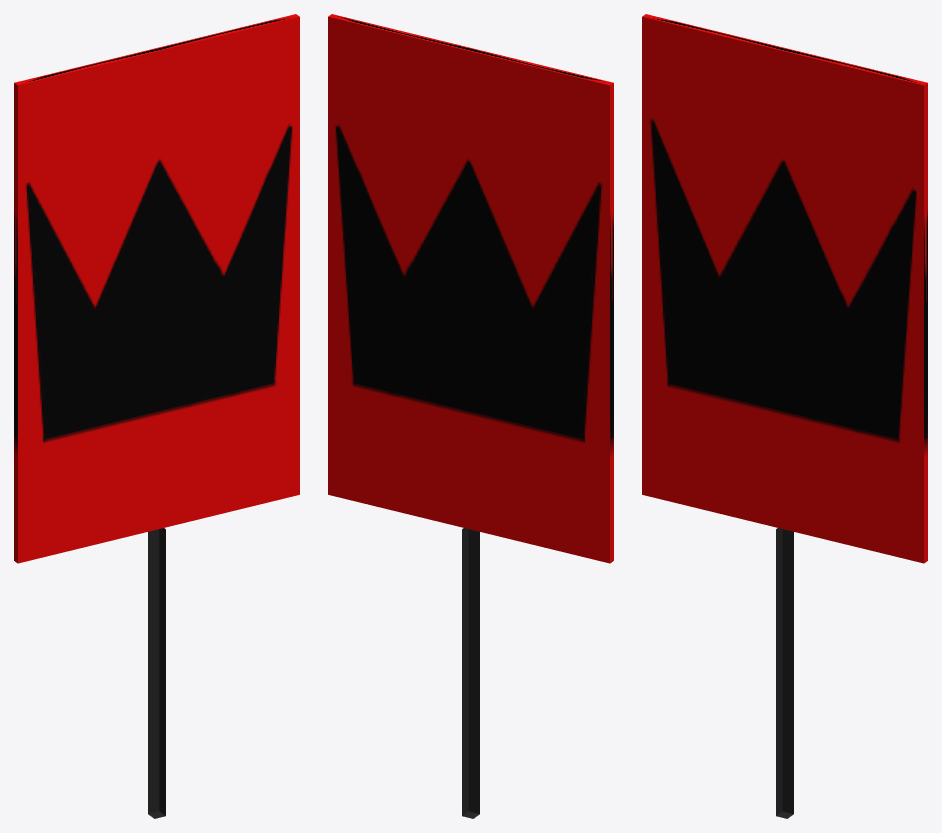
The model's file is leader_sign.fbx.
3 renders of one model, left to right at view 1: azimuth 30°, elevation 25°; view 2: azimuth 150°, elevation 25°; view 3: azimuth 330°, elevation 25°, orthographic.
Visible parts, largest first — view 1: Cube; view 2: Cube; view 3: Cube.
Part boxes in pixels (x1,y1,x2,y2): Cube: (14, 14, 299, 818); Cube: (328, 14, 613, 818); Cube: (642, 14, 927, 818).
Size of the model in its own units: 123 by 320 by 5.02.
